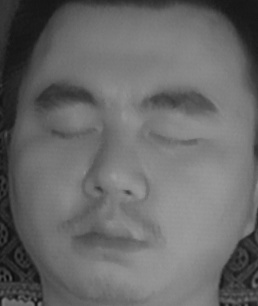blink: (46, 114, 98, 151), (151, 121, 200, 159)
mouth: (69, 208, 149, 263)
